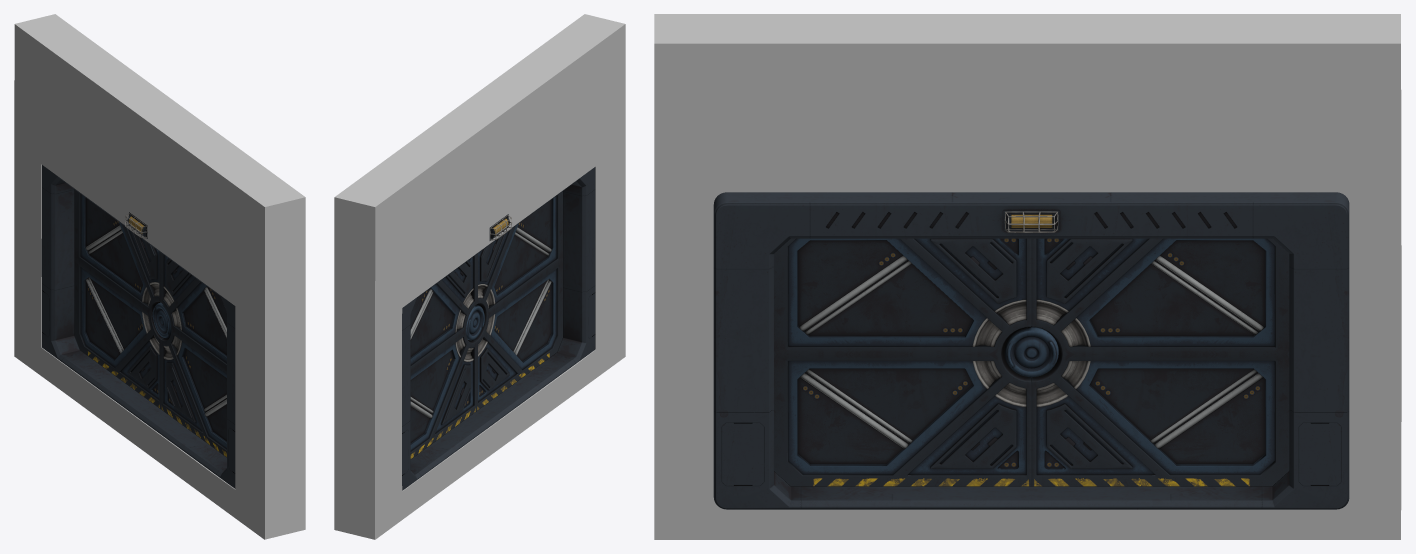
Rendered from BG_TR_BD_Wall_07.fbx.
3 renders of one model, left to right at view 1: azimuth 30°, elevation 25°; view 2: azimuth 150°, elevation 25°; view 3: azimuth 270°, elevation 25°, orthographic. The views are drawn at different scales.
Visible parts, largest first — view 1: GenRm_wall_bottom_low.003, tu_gate_R_001, tu_gate_side_001, tu_gate_L_001; view 2: GenRm_wall_bottom_low.003, tu_gate_L_001, tu_gate_side_001, tu_gate_R_001; view 3: GenRm_wall_bottom_low.003, tu_gate_side_001, tu_gate_L_001, tu_gate_R_001.
Boxes of the visible parts, x1,y1,x2,y2 form: GenRm_wall_bottom_low.003: [14, 14, 305, 539]; tu_gate_R_001: [74, 189, 163, 408]; tu_gate_side_001: [41, 165, 235, 488]; tu_gate_L_001: [152, 253, 226, 457]; GenRm_wall_bottom_low.003: [334, 14, 625, 539]; tu_gate_L_001: [466, 191, 562, 410]; tu_gate_side_001: [402, 167, 595, 490]; tu_gate_R_001: [410, 255, 476, 458]; GenRm_wall_bottom_low.003: [654, 14, 1401, 539]; tu_gate_side_001: [713, 192, 1349, 509]; tu_gate_L_001: [774, 238, 1058, 486]; tu_gate_R_001: [1031, 238, 1289, 486].
Bounding box in the file's own units: 0.6493 × 4.18 × 3.07.
